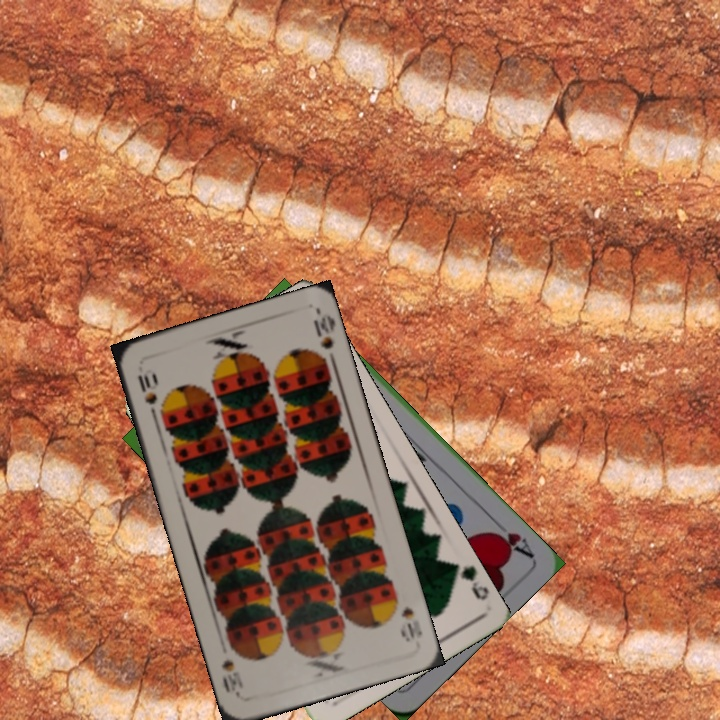G9: (445, 558, 491, 603)
HA: (485, 514, 536, 560)
S10: (391, 589, 425, 645), (133, 368, 160, 421)
